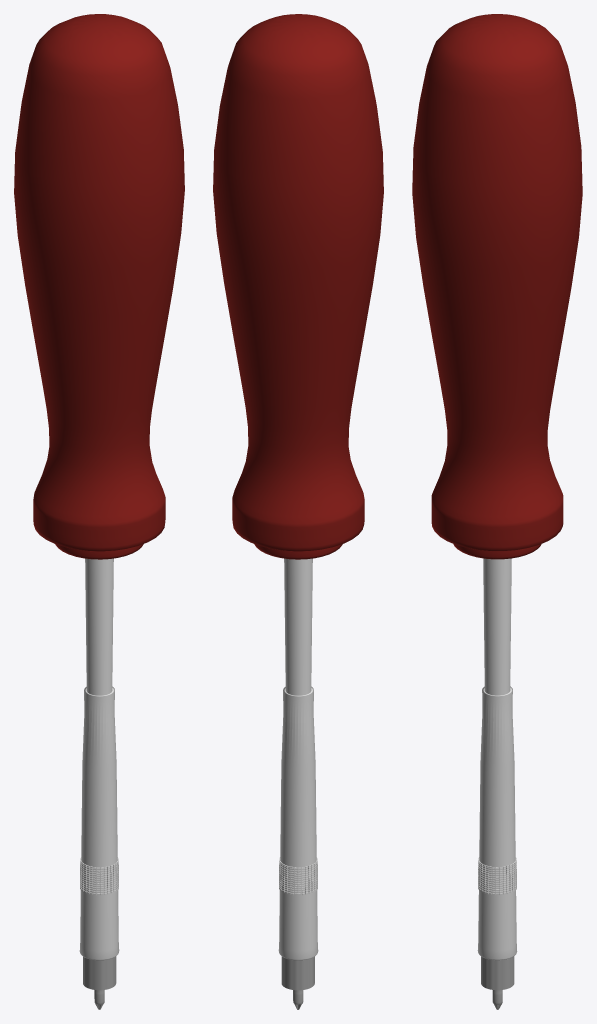
The model's file is serew dryver rotate.fbx.
3 renders of one model, left to right at view 1: azimuth 30°, elevation 25°; view 2: azimuth 150°, elevation 25°; view 3: azimuth 270°, elevation 25°, orthographic.
Visible parts, largest first — view 1: polySurface26; view 2: polySurface26; view 3: polySurface26.
Part boxes in pixels (box(x1,y1,x2,y2)): polySurface26: box(14, 14, 184, 1009); polySurface26: box(213, 14, 383, 1009); polySurface26: box(412, 14, 582, 1009).
Bounding box in the file's own units: 1.73 × 11.08 × 1.73.
